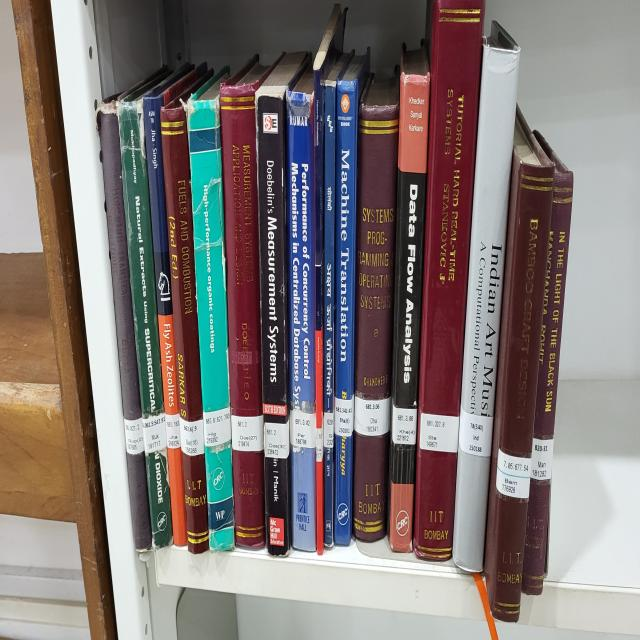Book: (414, 0, 485, 560), (452, 22, 520, 574), (485, 108, 554, 622), (255, 51, 310, 555), (144, 62, 200, 544), (220, 54, 272, 549), (160, 62, 212, 552), (96, 95, 151, 552), (522, 130, 574, 595), (119, 95, 172, 547), (186, 68, 234, 552), (352, 68, 400, 544), (389, 43, 430, 552), (334, 49, 370, 544), (314, 3, 346, 555), (286, 65, 316, 552), (324, 54, 352, 547)
Label: (419, 411, 459, 455), (496, 449, 531, 498), (459, 406, 492, 457), (354, 395, 390, 436), (231, 414, 264, 452), (204, 406, 231, 446), (391, 406, 418, 446), (264, 419, 290, 460), (290, 409, 316, 449), (531, 438, 554, 482), (180, 417, 205, 457), (142, 414, 166, 455), (334, 395, 354, 438), (124, 417, 144, 455), (165, 414, 181, 449), (324, 411, 334, 449), (316, 427, 324, 463)
